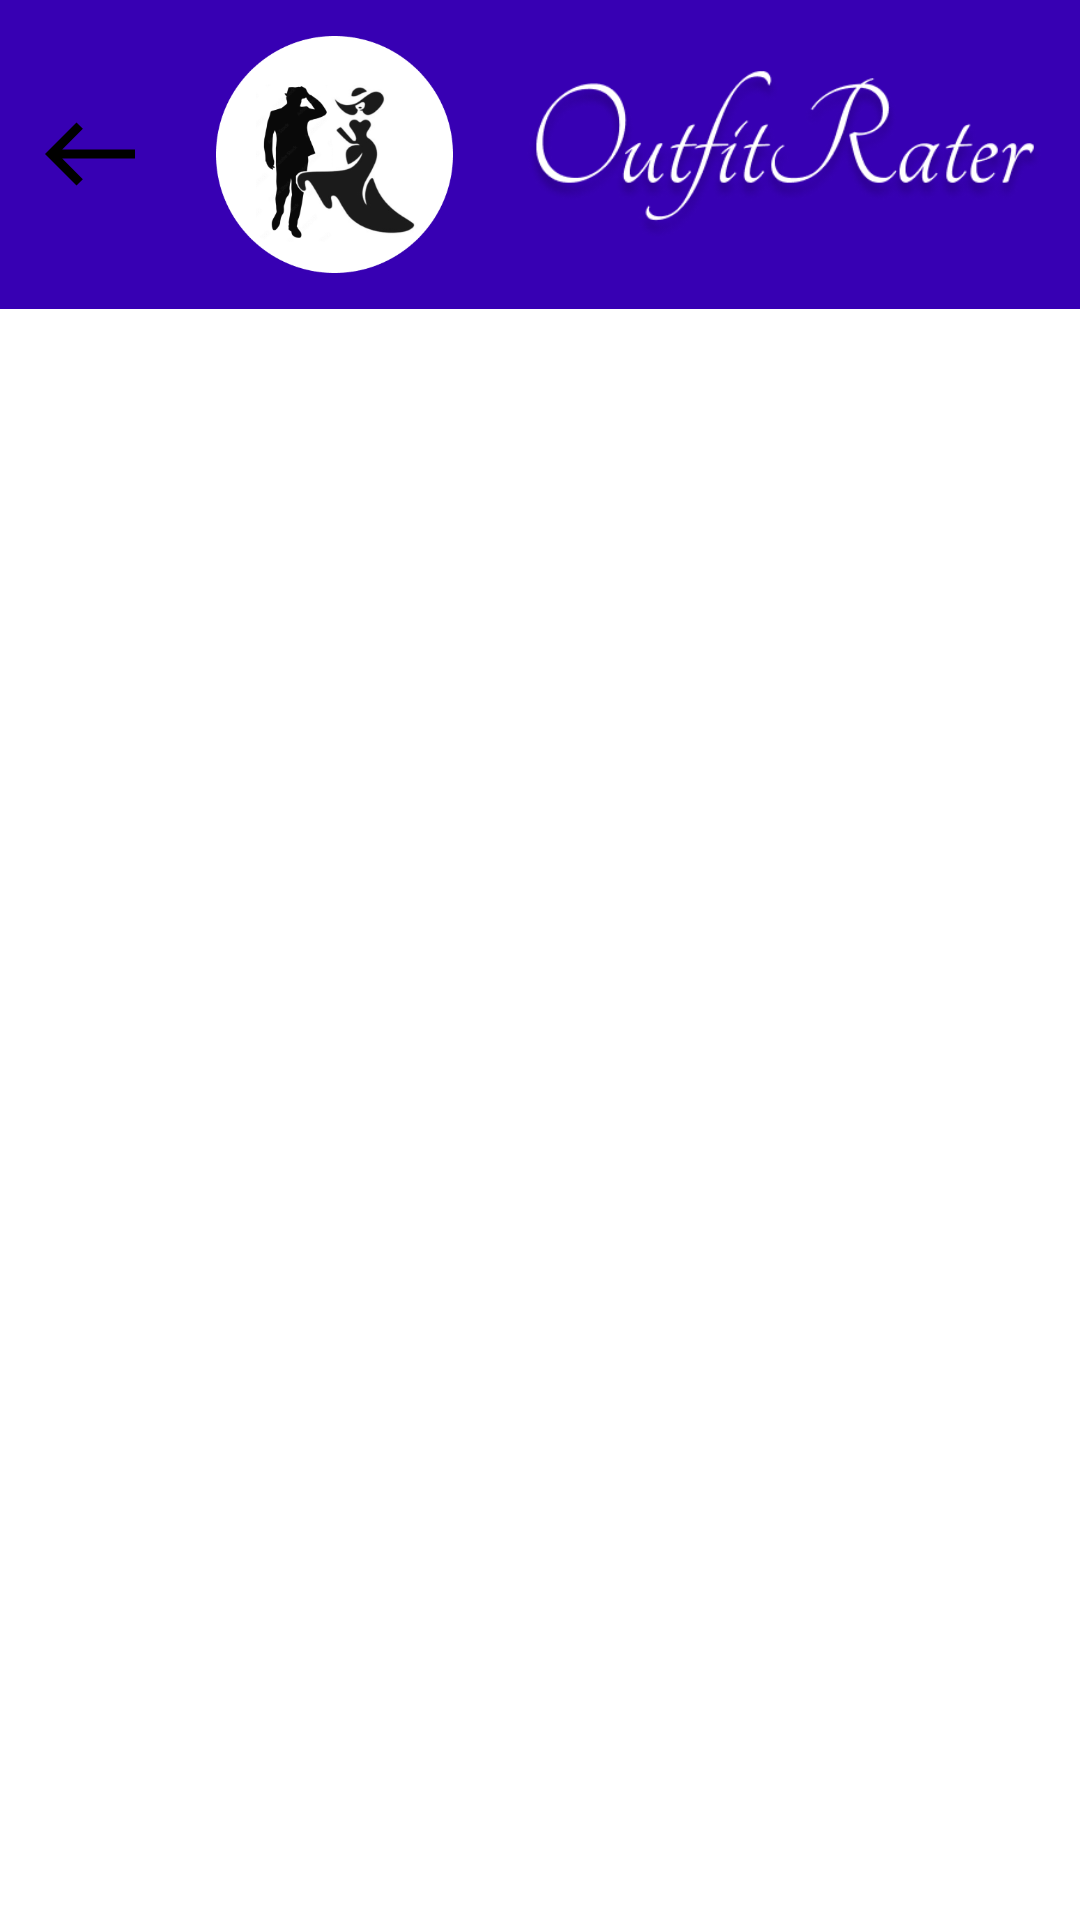

Screen size 1080×1920. Icon name, then its box in pixels as detection(x1, y1, x2, y2):
ipro main back arrow: detection(45, 122, 135, 186)
